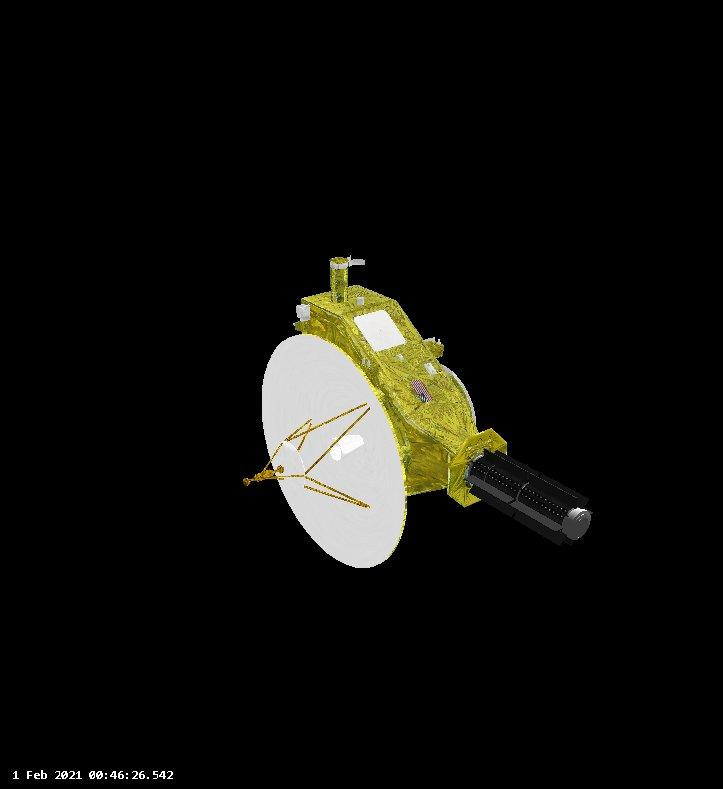antenna: (237, 330, 409, 571), (434, 358, 482, 433)
body: (287, 248, 511, 511)
